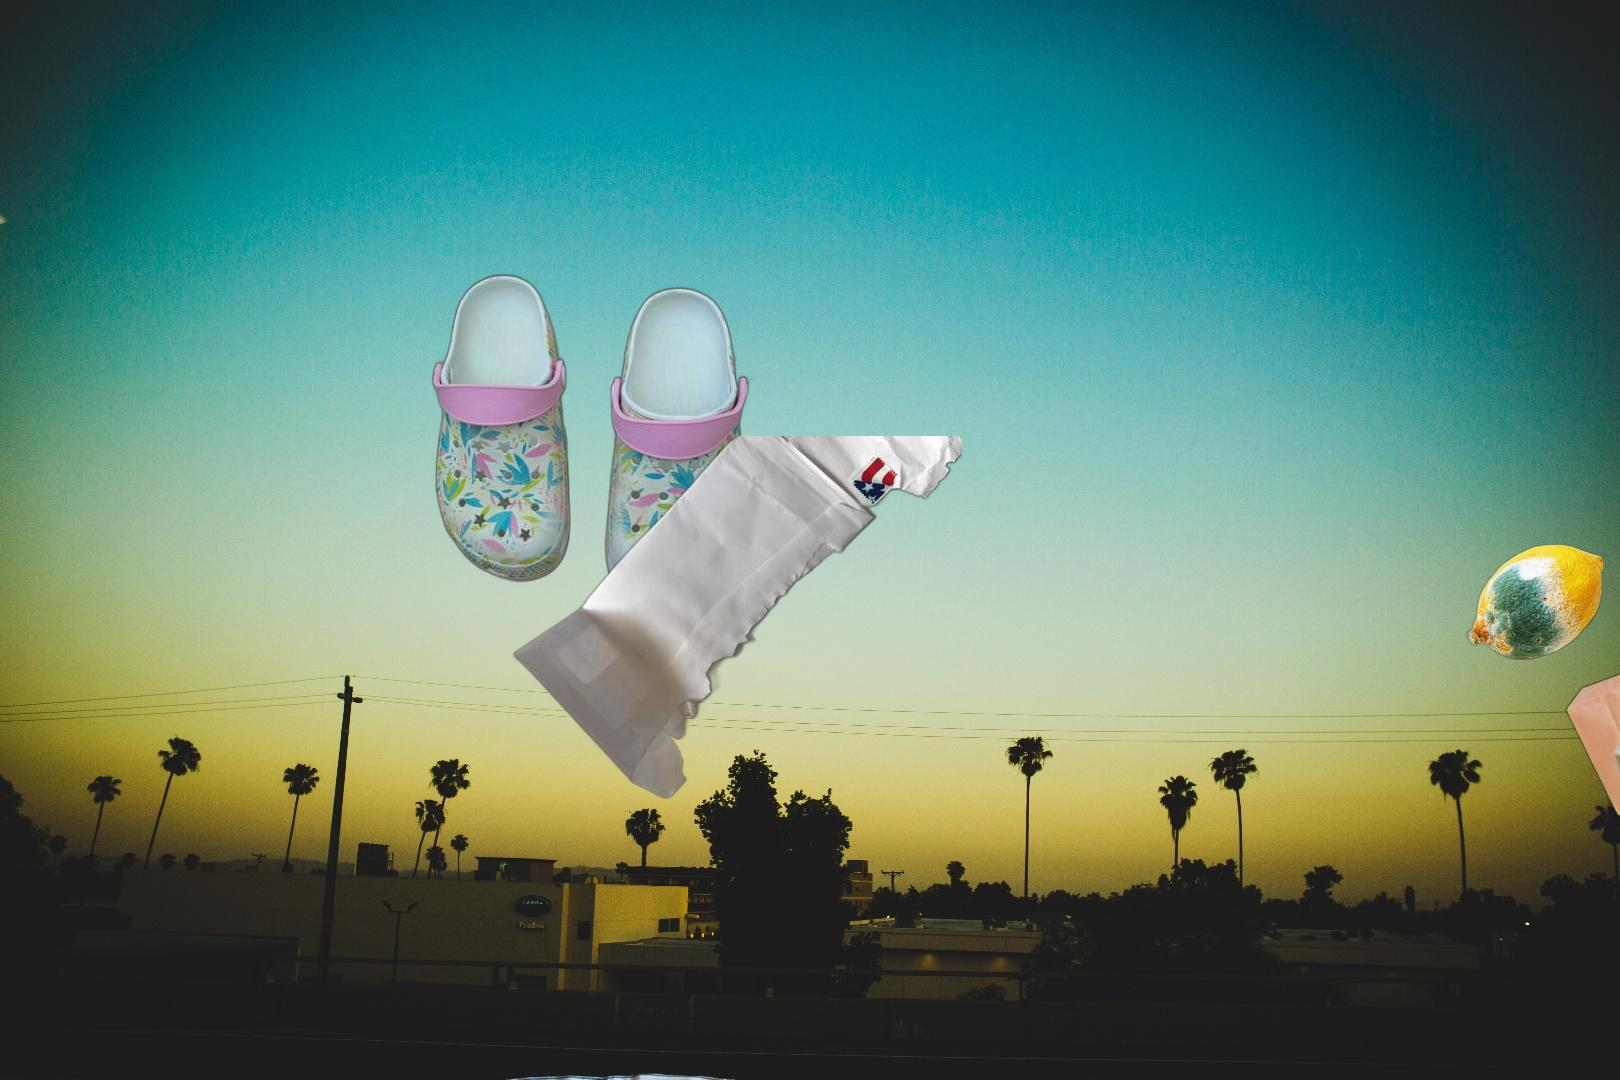biological: (1463, 541, 1608, 662)
clothes: (424, 1069, 781, 1080)
paper: (509, 436, 962, 801)
paper-bag: (1563, 646, 1620, 844)
shoes: (429, 270, 758, 609)
